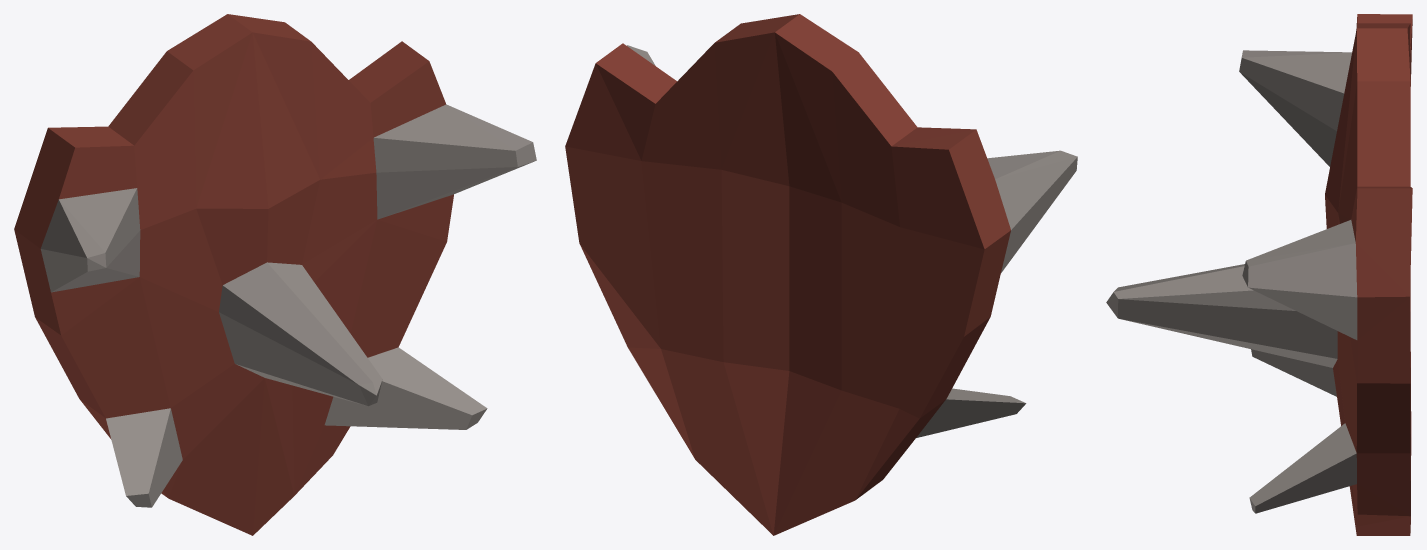
File: Shield.fbx
3 views of the same model, side by side, from view 1: azimuth 30°, elevation 25°; view 2: azimuth 150°, elevation 25°; view 3: azimuth 270°, elevation 25° (orthographic).
Parts seen in each view (by area): view 1: Cube; view 2: Cube; view 3: Cube.
Boxes of the visible parts, box(x1,y1,x2,y2) form: Cube: box(14, 14, 536, 535); Cube: box(565, 14, 1077, 535); Cube: box(1106, 14, 1412, 535).
Size of the model in its own units: 255 by 272 by 149.
